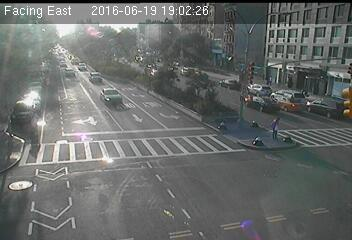neg: (285, 176, 311, 211), (146, 167, 172, 201), (110, 34, 131, 63), (31, 100, 52, 128), (186, 154, 206, 182), (313, 96, 333, 124), (84, 116, 104, 142), (43, 155, 63, 181), (238, 171, 257, 197), (294, 64, 313, 89), (8, 176, 26, 200), (181, 80, 199, 104), (241, 59, 258, 82), (175, 41, 192, 64), (104, 92, 121, 114), (103, 146, 119, 167), (253, 134, 267, 151)
pos: (269, 115, 286, 138)
